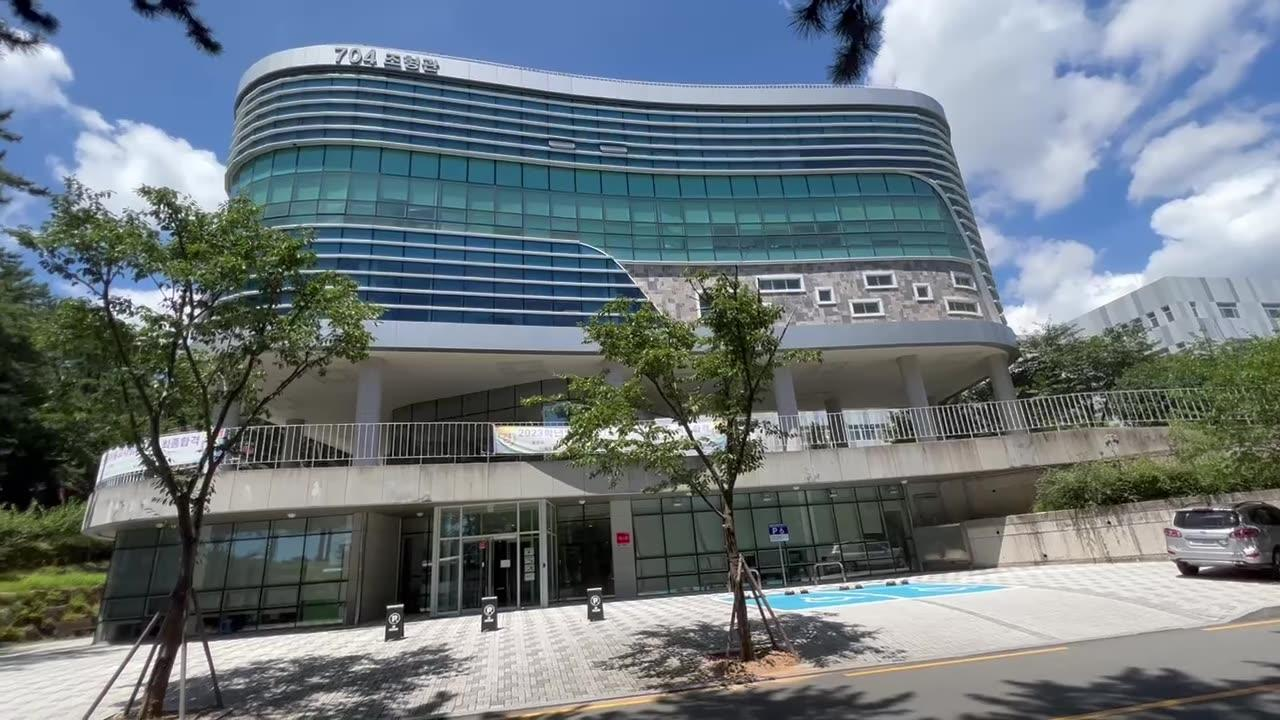building: (242, 34, 1030, 363)
